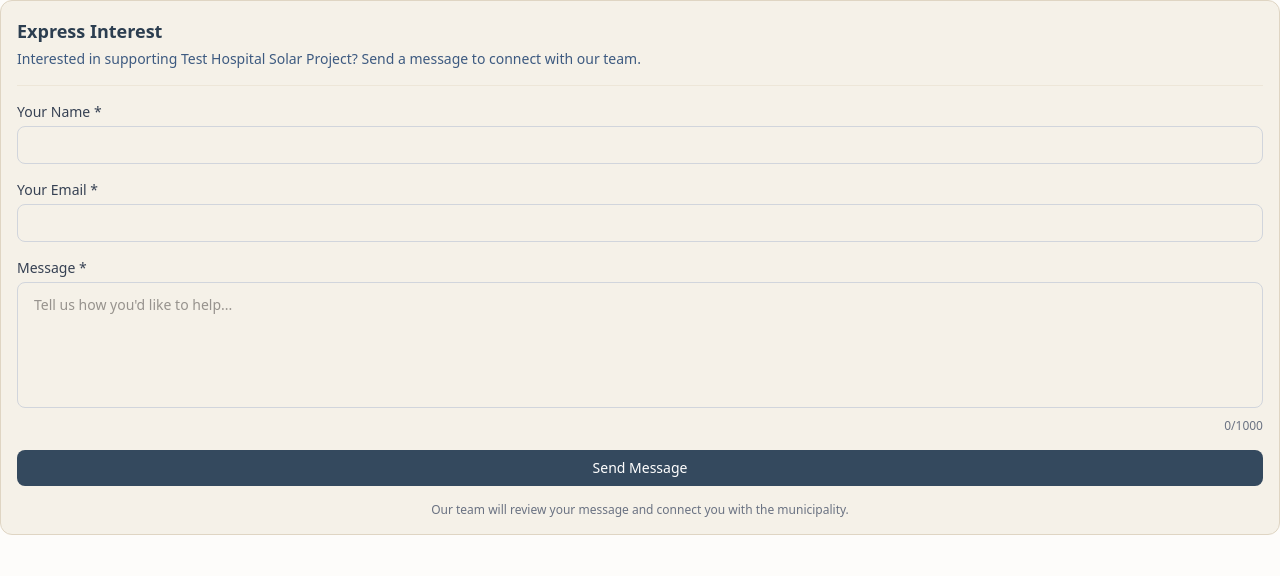
Test: ContactForm › Validation › shows validation error for short message
Type "John Doe" into the field labelled "Your Name *" at [640, 145], box [17,126,1263,164]
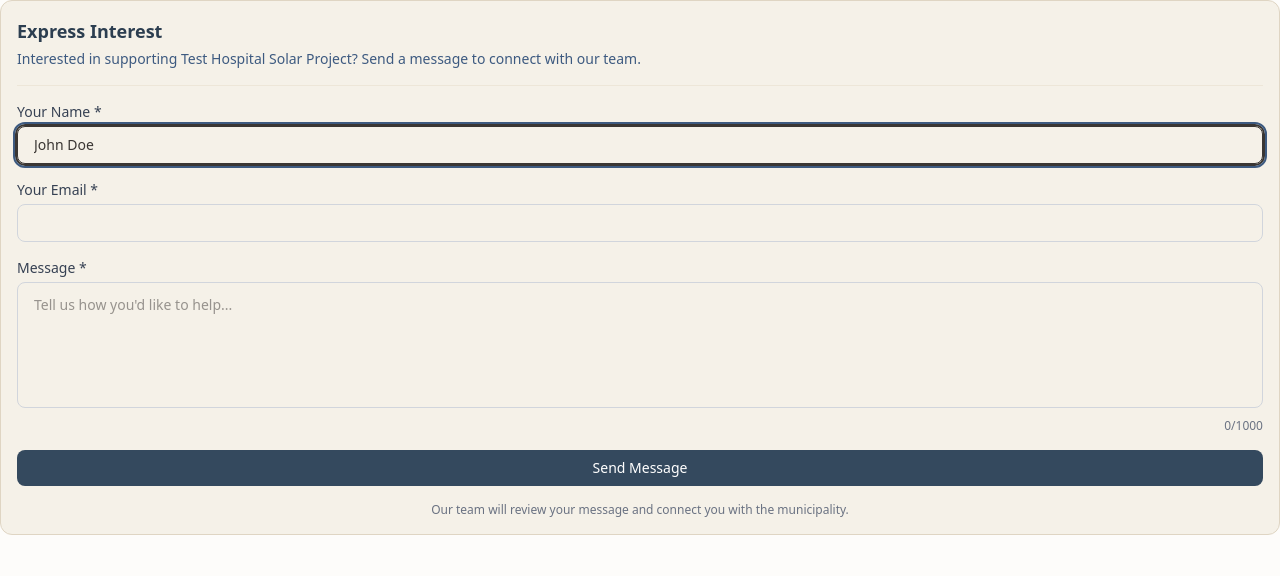
Type "john@example.com" into the field labelled "Your Email *" at [640, 223], box [17,204,1263,242]
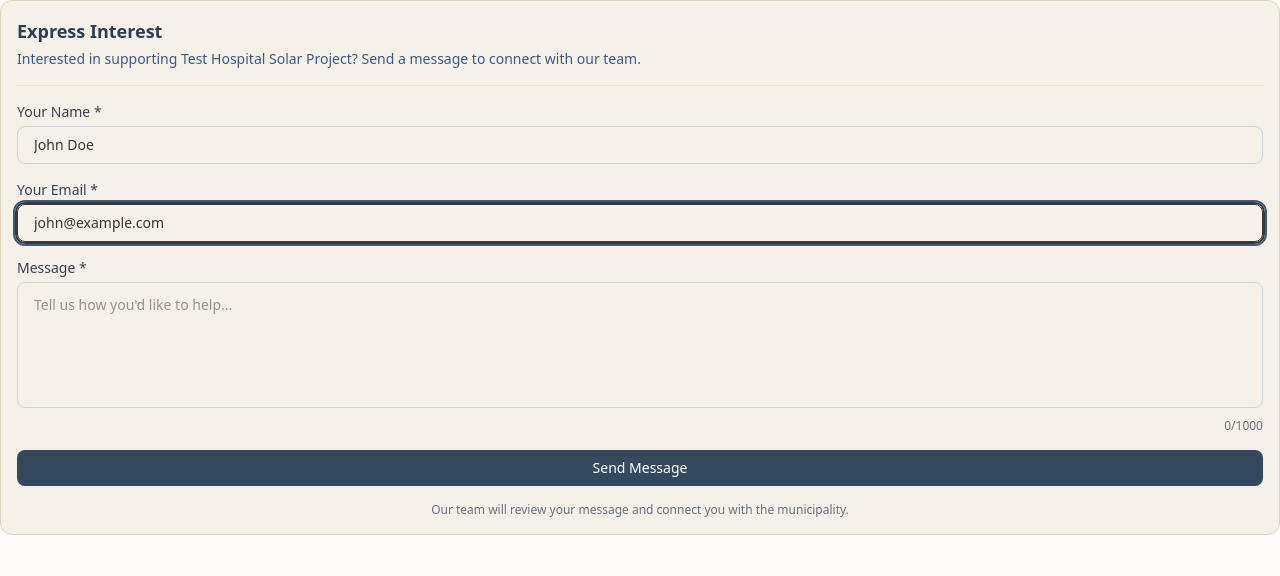
Type "Too short" into the text box labelled "Message *" at [640, 345], box [17,282,1263,408]
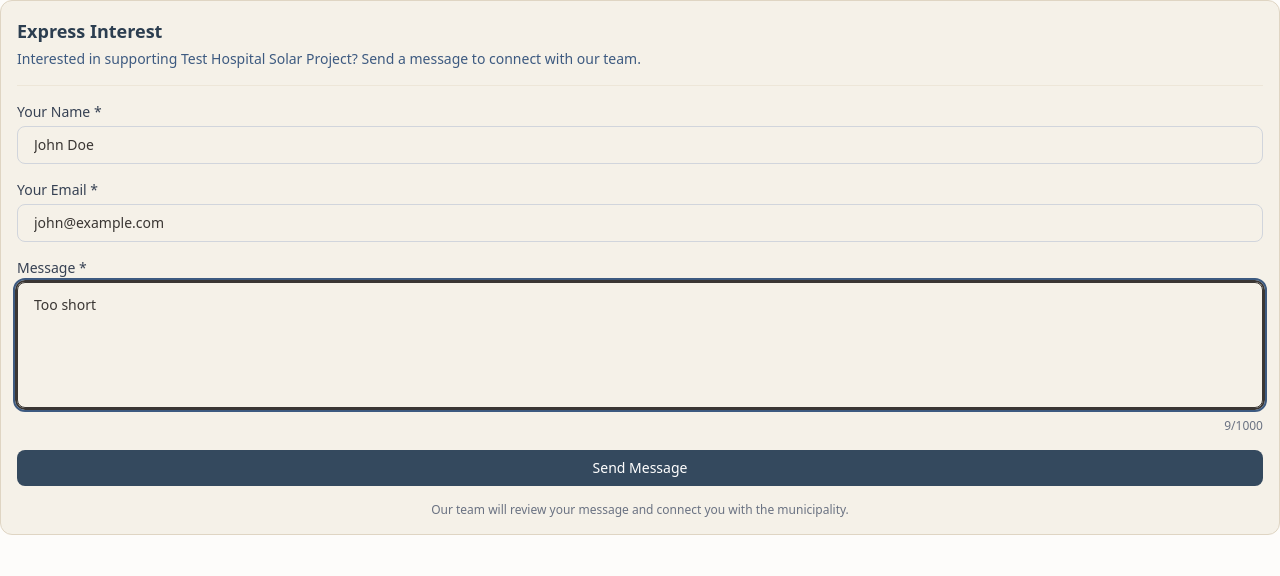
Click the button "Send Message" at [640, 468], box [17,450,1263,486]
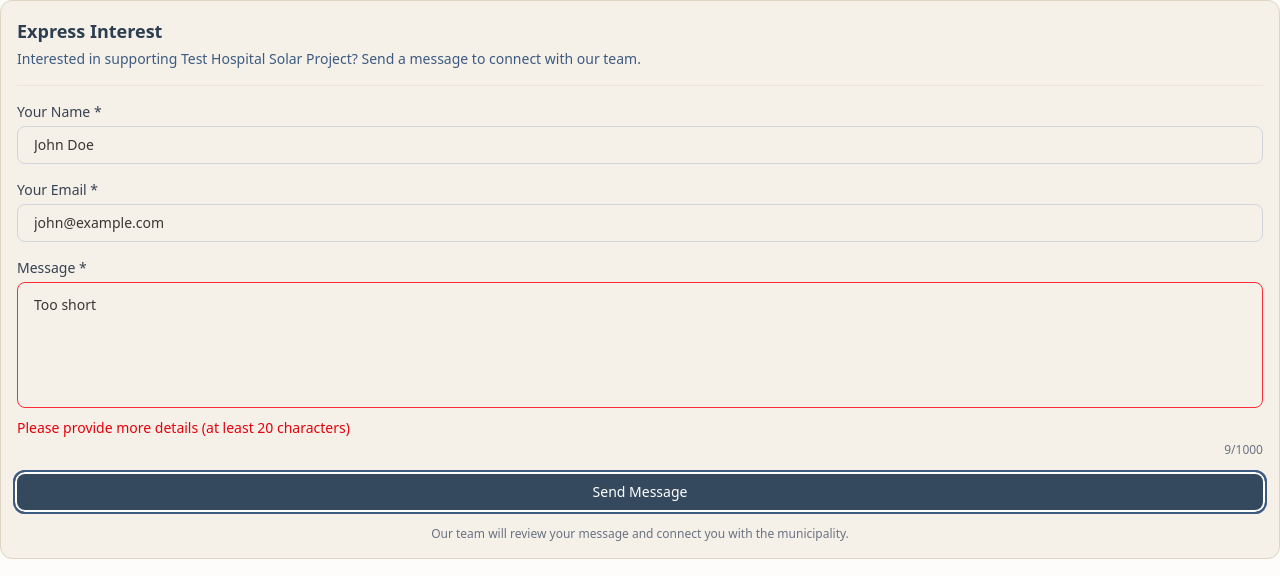
Check: the text "Please provide more details (at least 20 characters)" is shown, box [17,418,350,437]
